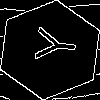Y: (25, 25, 78, 64)
